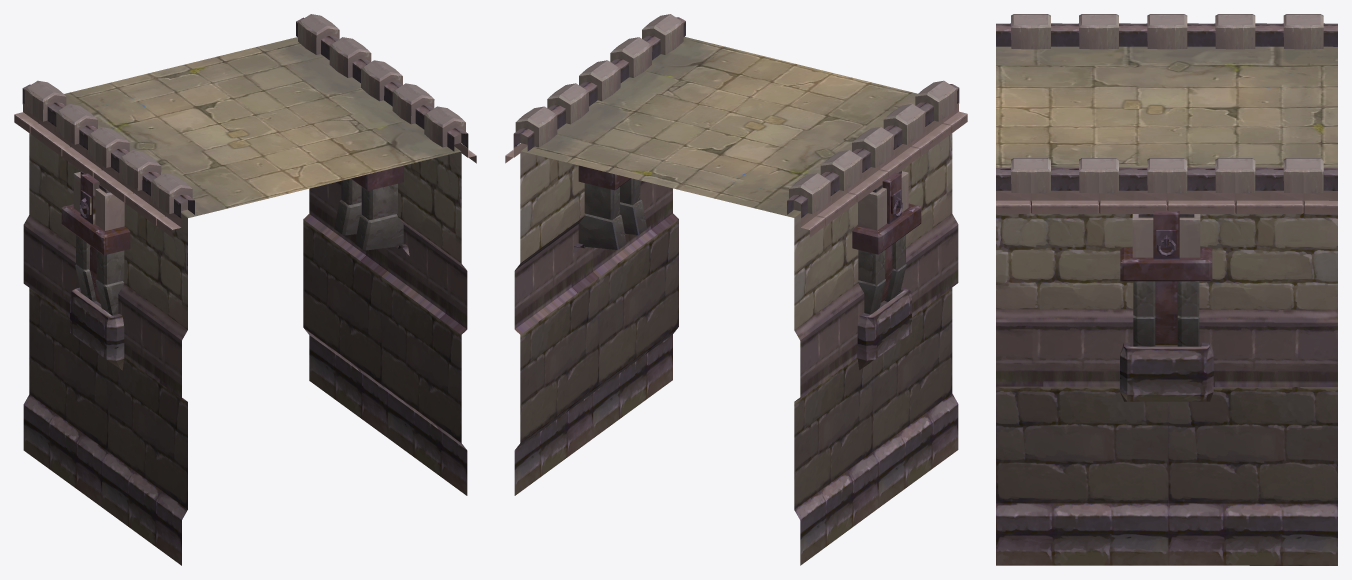
File: idle_ground_10_01.fbx
3 renders of one model, left to right at view 1: azimuth 30°, elevation 25°; view 2: azimuth 150°, elevation 25°; view 3: azimuth 270°, elevation 25°, orthographic. The views are drawn at different scales.
Parts seen in each view (by area): view 1: pingtai10_01; view 2: pingtai10_01; view 3: pingtai10_01.
Boxes of the visible parts, x1=… form: pingtai10_01: x1=14, y1=14, x2=476, y2=565; pingtai10_01: x1=505, y1=14, x2=967, y2=565; pingtai10_01: x1=996, y1=14, x2=1337, y2=565.
Size of the model in its own units: 1203 by 1306 by 1002.
1 material, 1 textured.
